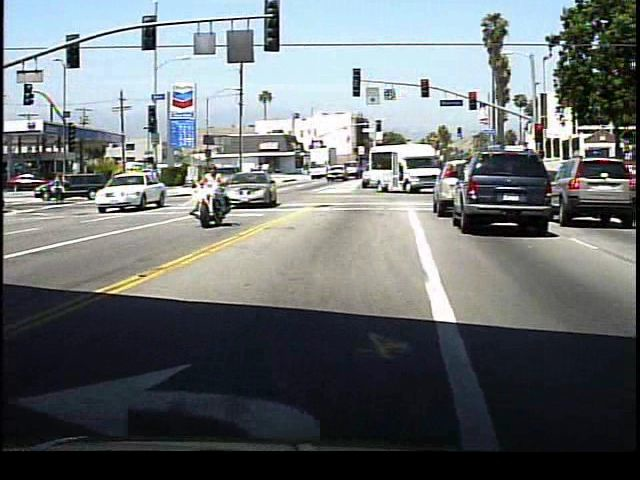person: (200, 167, 237, 225)
